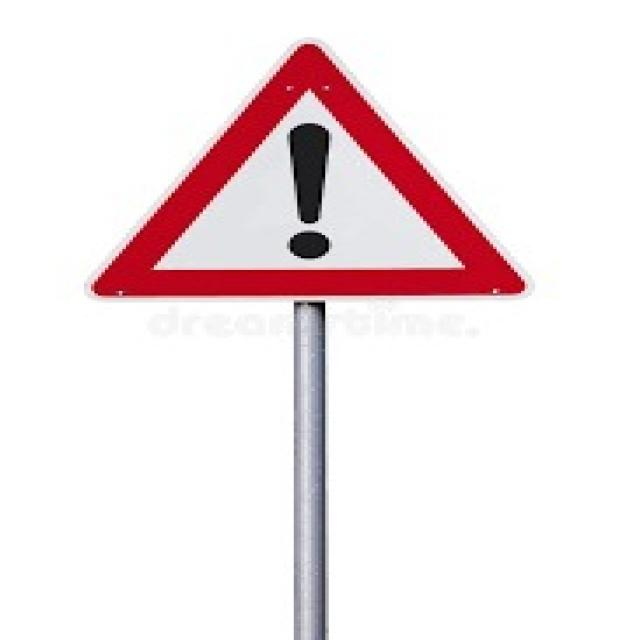warning: (73, 33, 545, 313)
